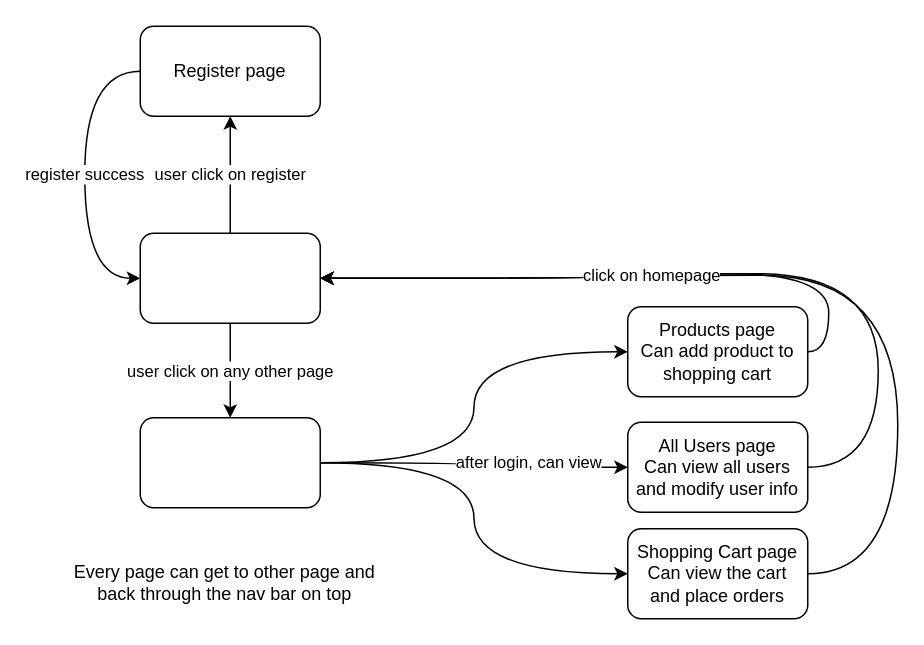
This 924x645 diagram has some shape labels left out. The centre of each missing label's shape, as x and y in pixels:
Homepage (with nav bar on top): (229,277)
Login prompt: (229,462)
